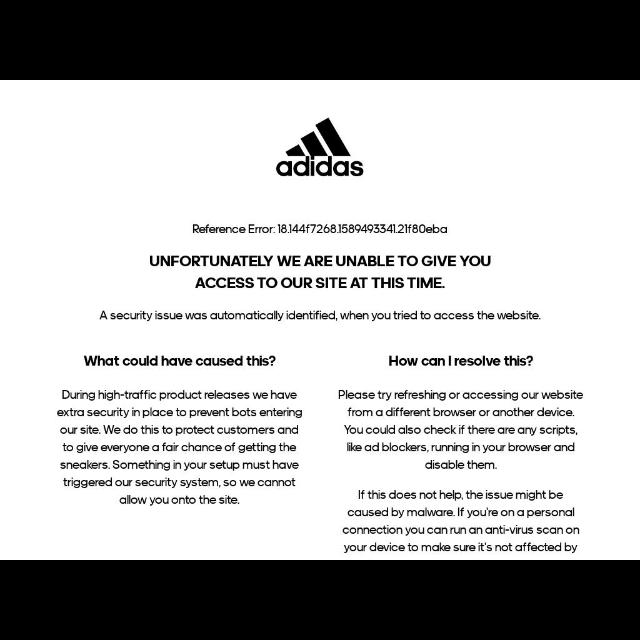image: (274, 118, 366, 178)
text: (58, 389, 302, 507), (338, 388, 586, 470), (343, 488, 581, 554), (148, 256, 494, 290), (100, 310, 542, 322), (194, 223, 448, 234), (84, 354, 276, 368), (388, 354, 534, 368)
